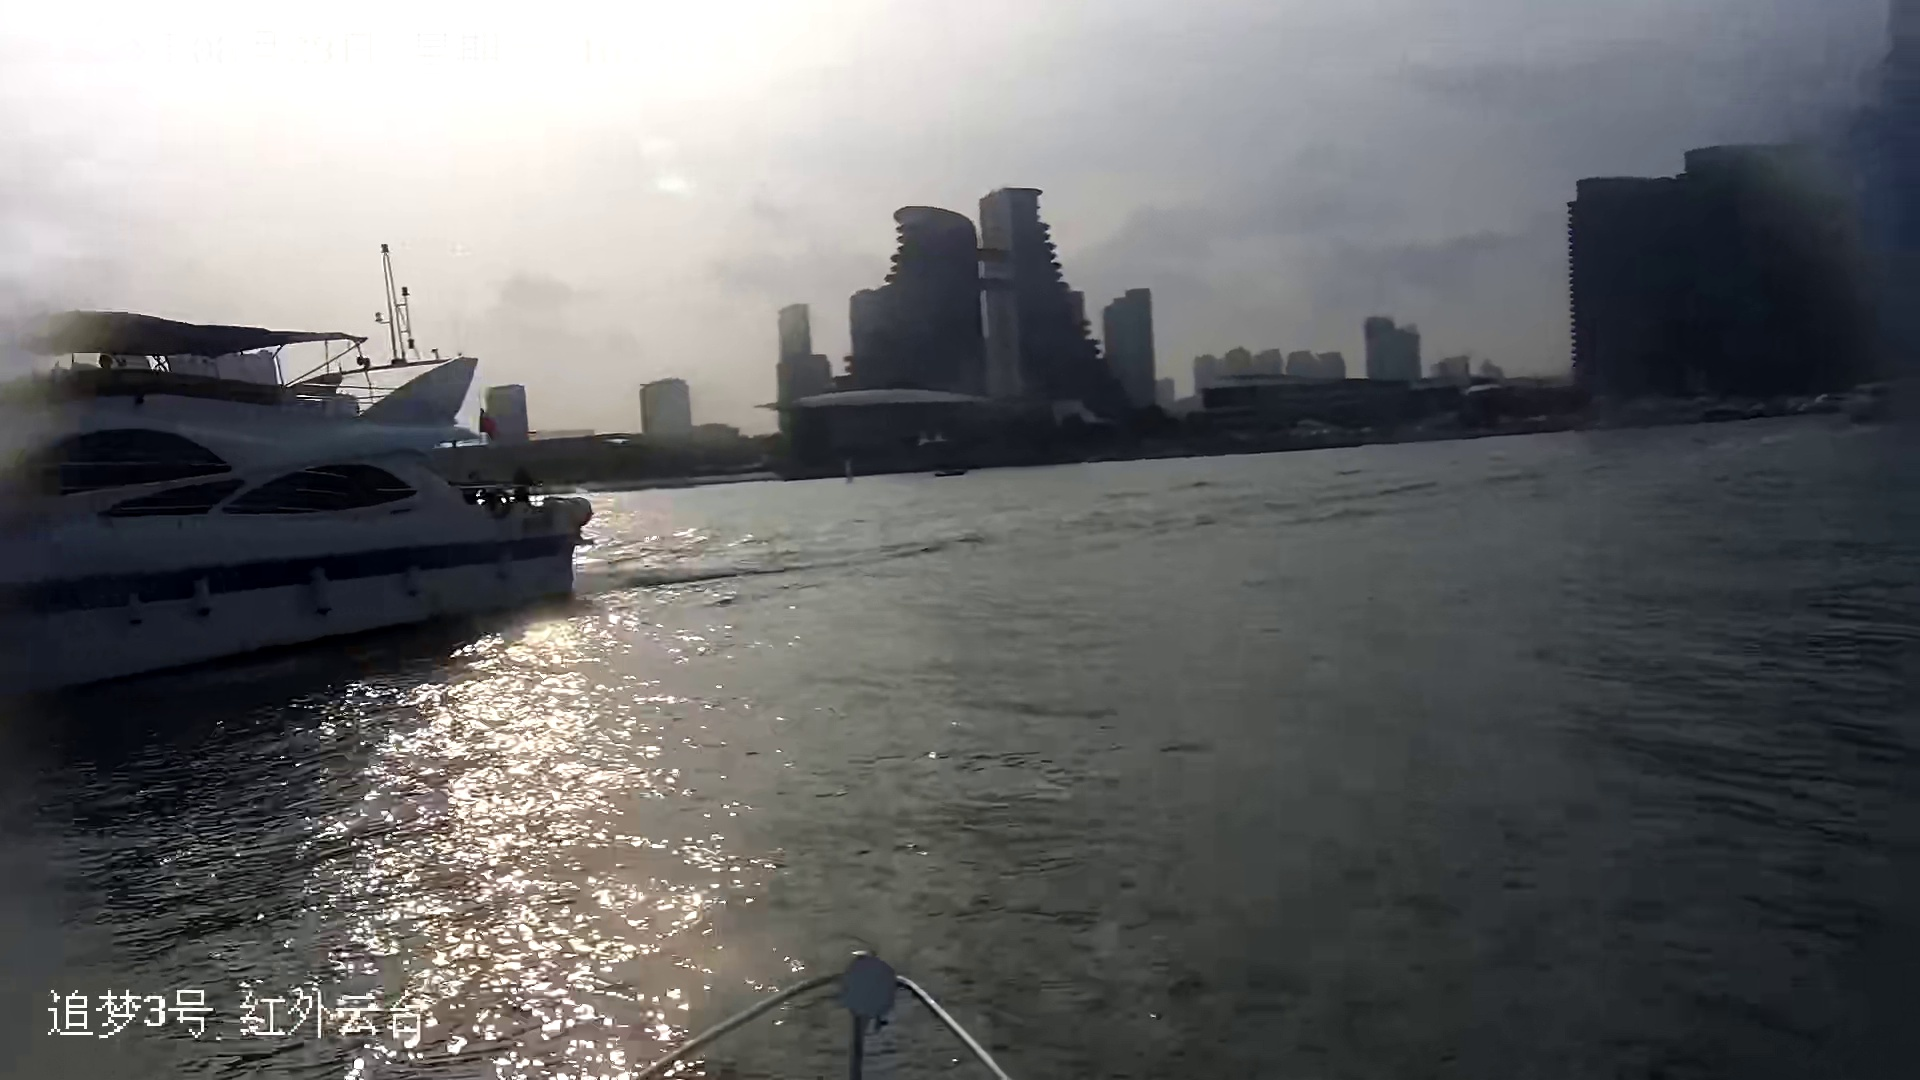barrier: (1, 309, 597, 686)
coast: (556, 138, 1920, 485)
